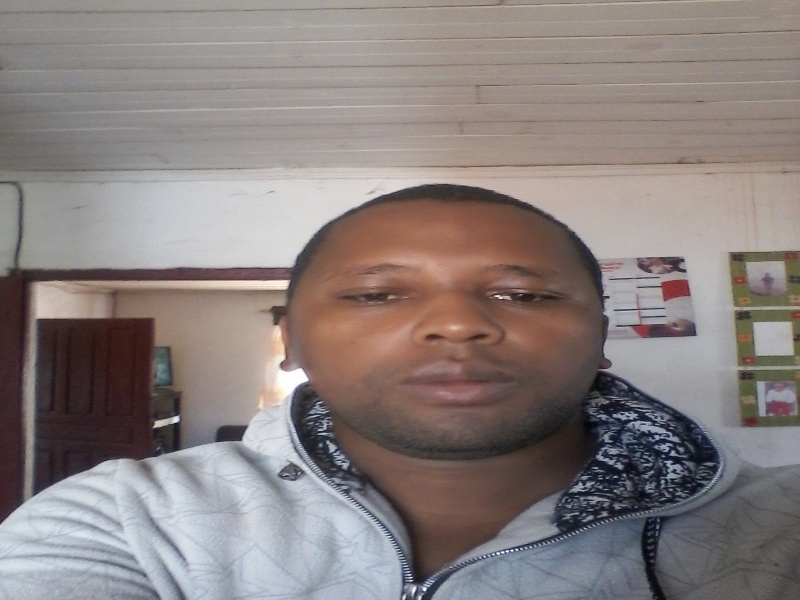TsisyArotava: (265, 171, 629, 458)
